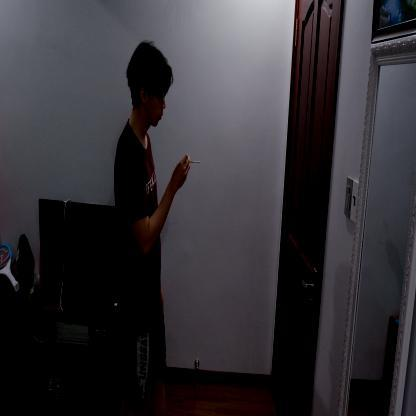cigarette: (188, 159, 202, 165)
person: (110, 40, 189, 415)
